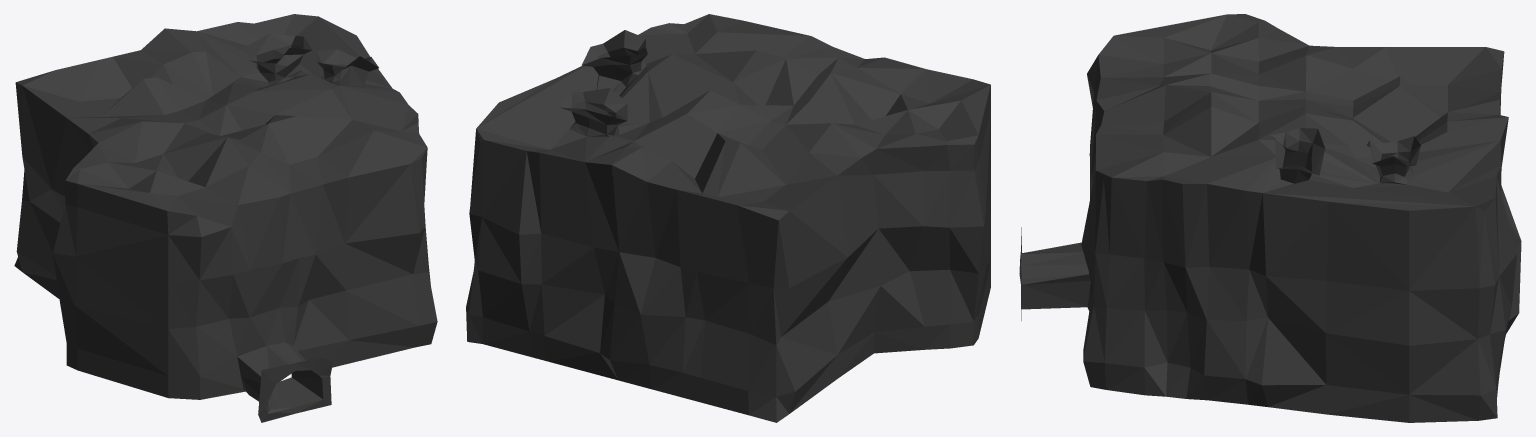
File: Cave_14C_LOD_2.fbx
3 views of the same model, side by side, from view 1: azimuth 30°, elevation 25°; view 2: azimuth 150°, elevation 25°; view 3: azimuth 270°, elevation 25° (orthographic). The views are drawn at different scales.
Parts seen in each view (by area): view 1: polySurface1228; view 2: polySurface1228; view 3: polySurface1228.
Boxes of the visible parts, x1,y1,x2,y2 form: polySurface1228: [14, 14, 437, 422]; polySurface1228: [466, 14, 990, 422]; polySurface1228: [1019, 14, 1521, 422].
Size of the model in its own units: 45.92 by 26.92 by 46.52.
